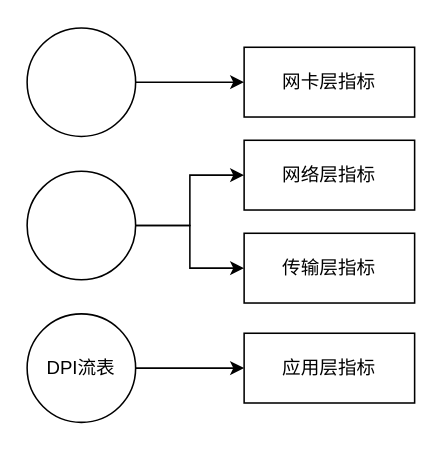
Image size: 442x450. Some labels were removed from this diagram. The centre of each missing label's shape, as x and y in pixels:
"流Hash表" goes at point (81, 225).
"网卡计数器" goes at point (81, 81).
